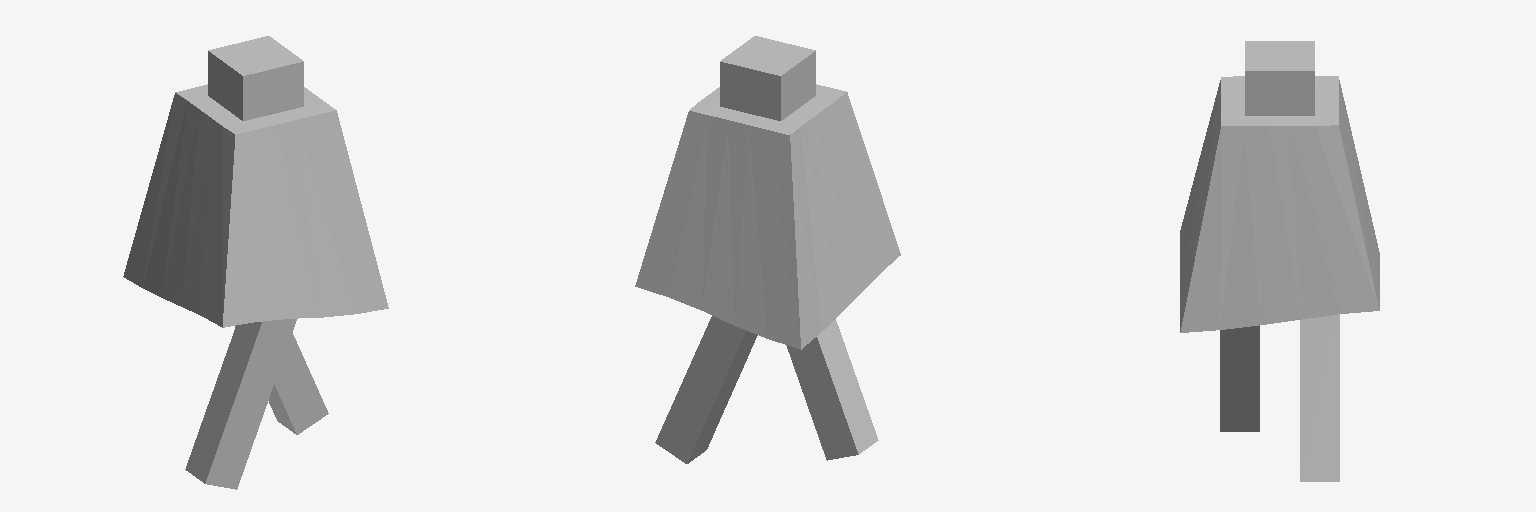
Rendered from essai_000038.obj.
3 renders of one model, left to right at view 1: azimuth 30°, elevation 25°; view 2: azimuth 150°, elevation 25°; view 3: azimuth 270°, elevation 25°, orthographic.
Visible parts, largest first — view 1: Cube; view 2: Cube; view 3: Cube.
Boxes of the visible parts, <box> form: Cube: <box>123,36,388,489</box>; Cube: <box>635,36,900,463</box>; Cube: <box>1180,41,1379,481</box>.
Size of the model in its own units: 1.95 by 4.43 by 2.